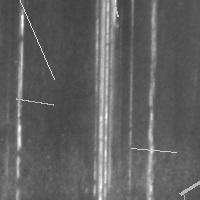scratches: (88, 1, 127, 197), (140, 1, 161, 196), (12, 0, 59, 84), (14, 10, 29, 183), (175, 152, 200, 199), (126, 143, 181, 157), (11, 94, 58, 110), (95, 0, 123, 21), (178, 185, 195, 200)
